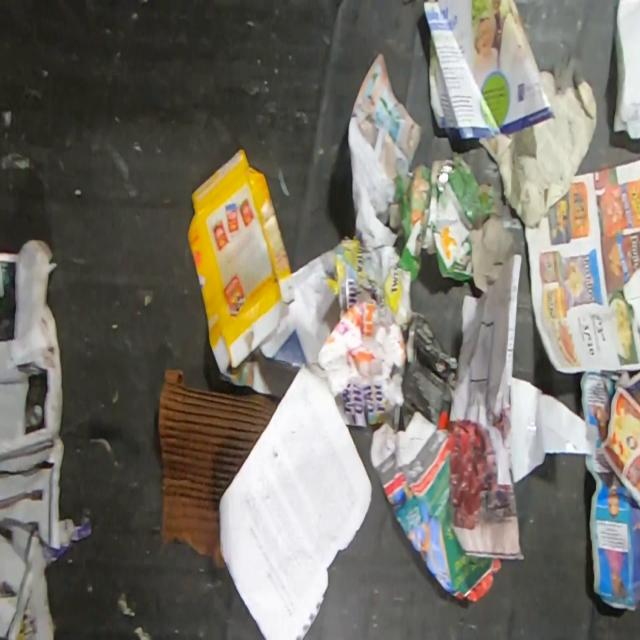cardboard: (186, 147, 298, 377), (157, 367, 281, 567)
metal: (436, 163, 454, 192)
